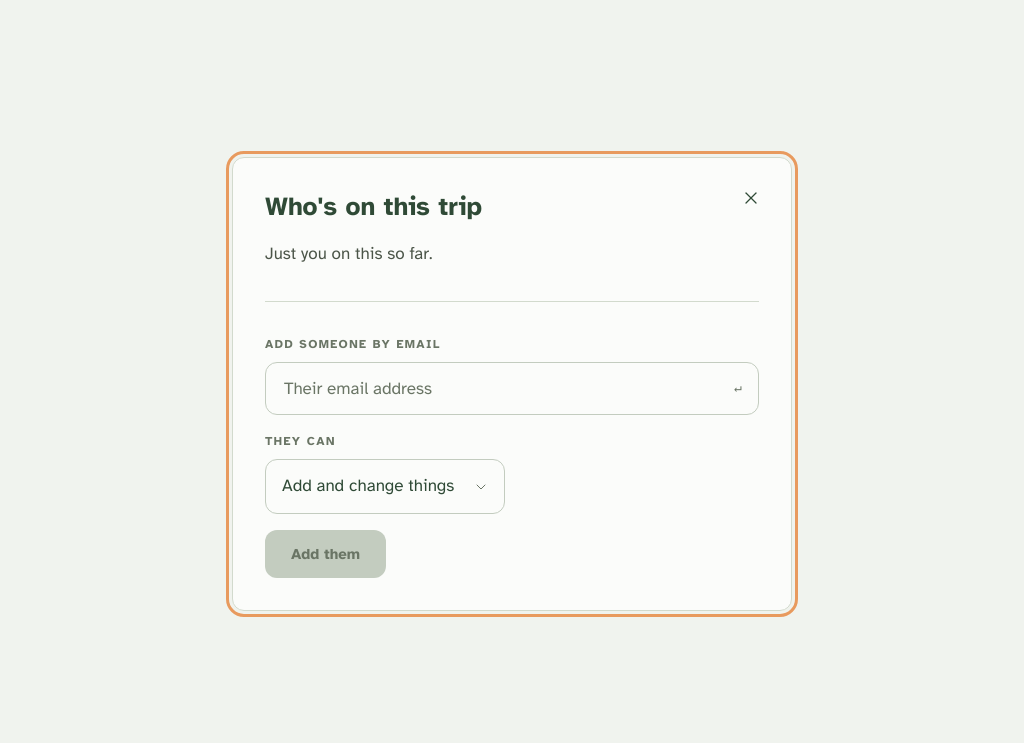
Test: SharePanel › clears the note as soon as the address it was about is typed over
expect the text "Just you on this so far." is shown: met, box [265,243,432,264]
Type "sarah@wend.app" into the field labelled "Add someone by email" at {"x": 502, "y": 388}, box [282,377,722,400]
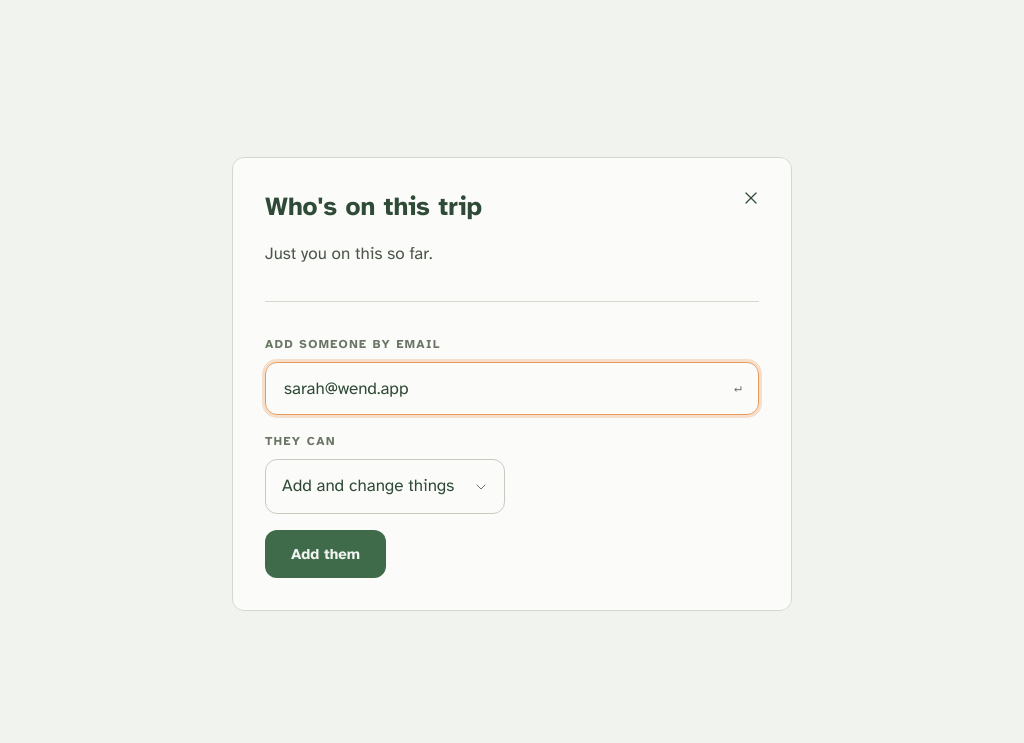
Click the button "Add them" at {"x": 326, "y": 554}, box [265,530,386,578]
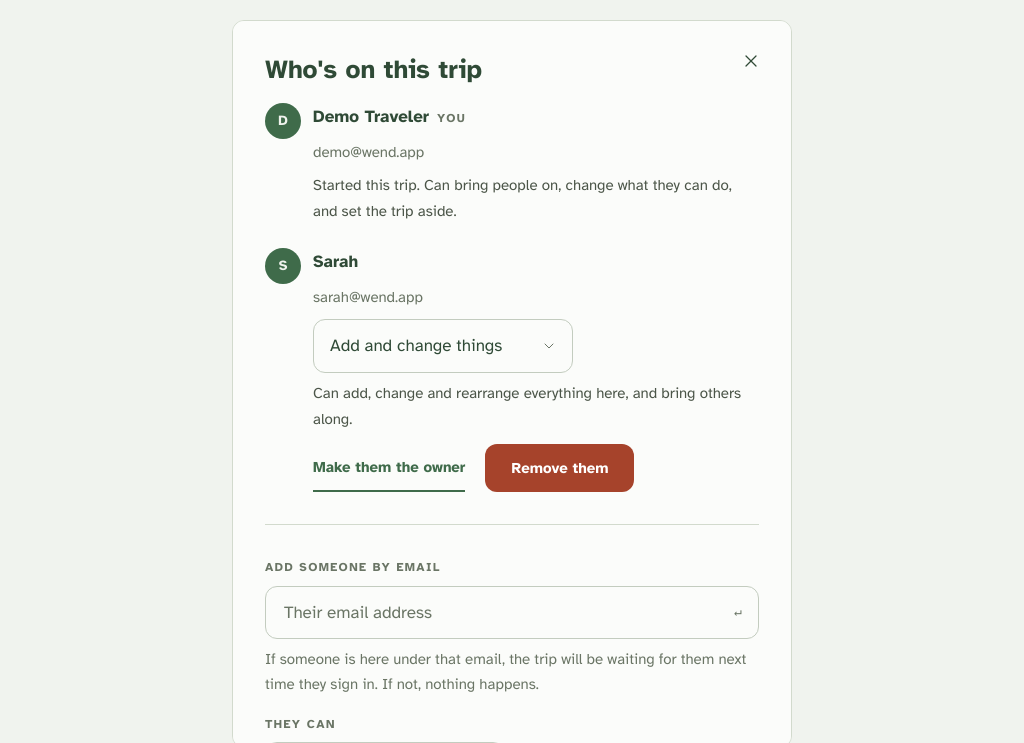
expect the text "If someone is here under that email, the trip will be waiting for them next time they sign in. If not, nothing happens." is shown: met, box [265,650,746,693]
Type "x" into the field labelled "Add someone by email" at {"x": 502, "y": 612}, box [282,601,722,624]
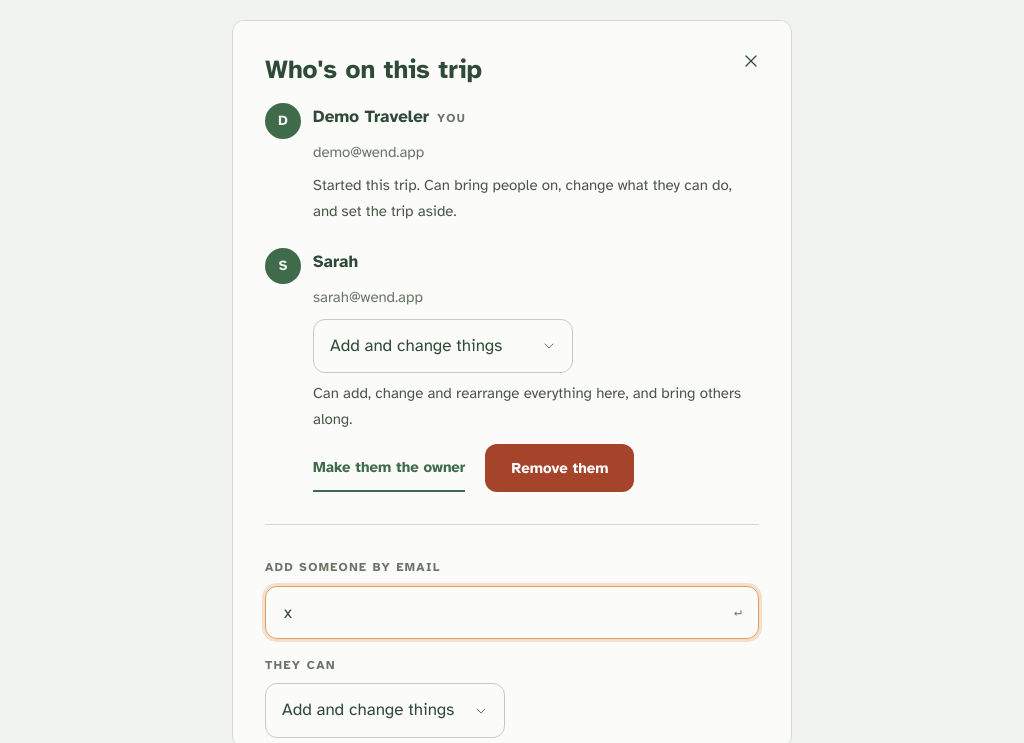
expect the text "If someone is here under that email, the trip will be waiting for them next time they sign in. If not, nothing happens." is gone: met
